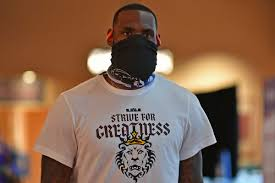with-mask: (103, 3, 166, 88)
